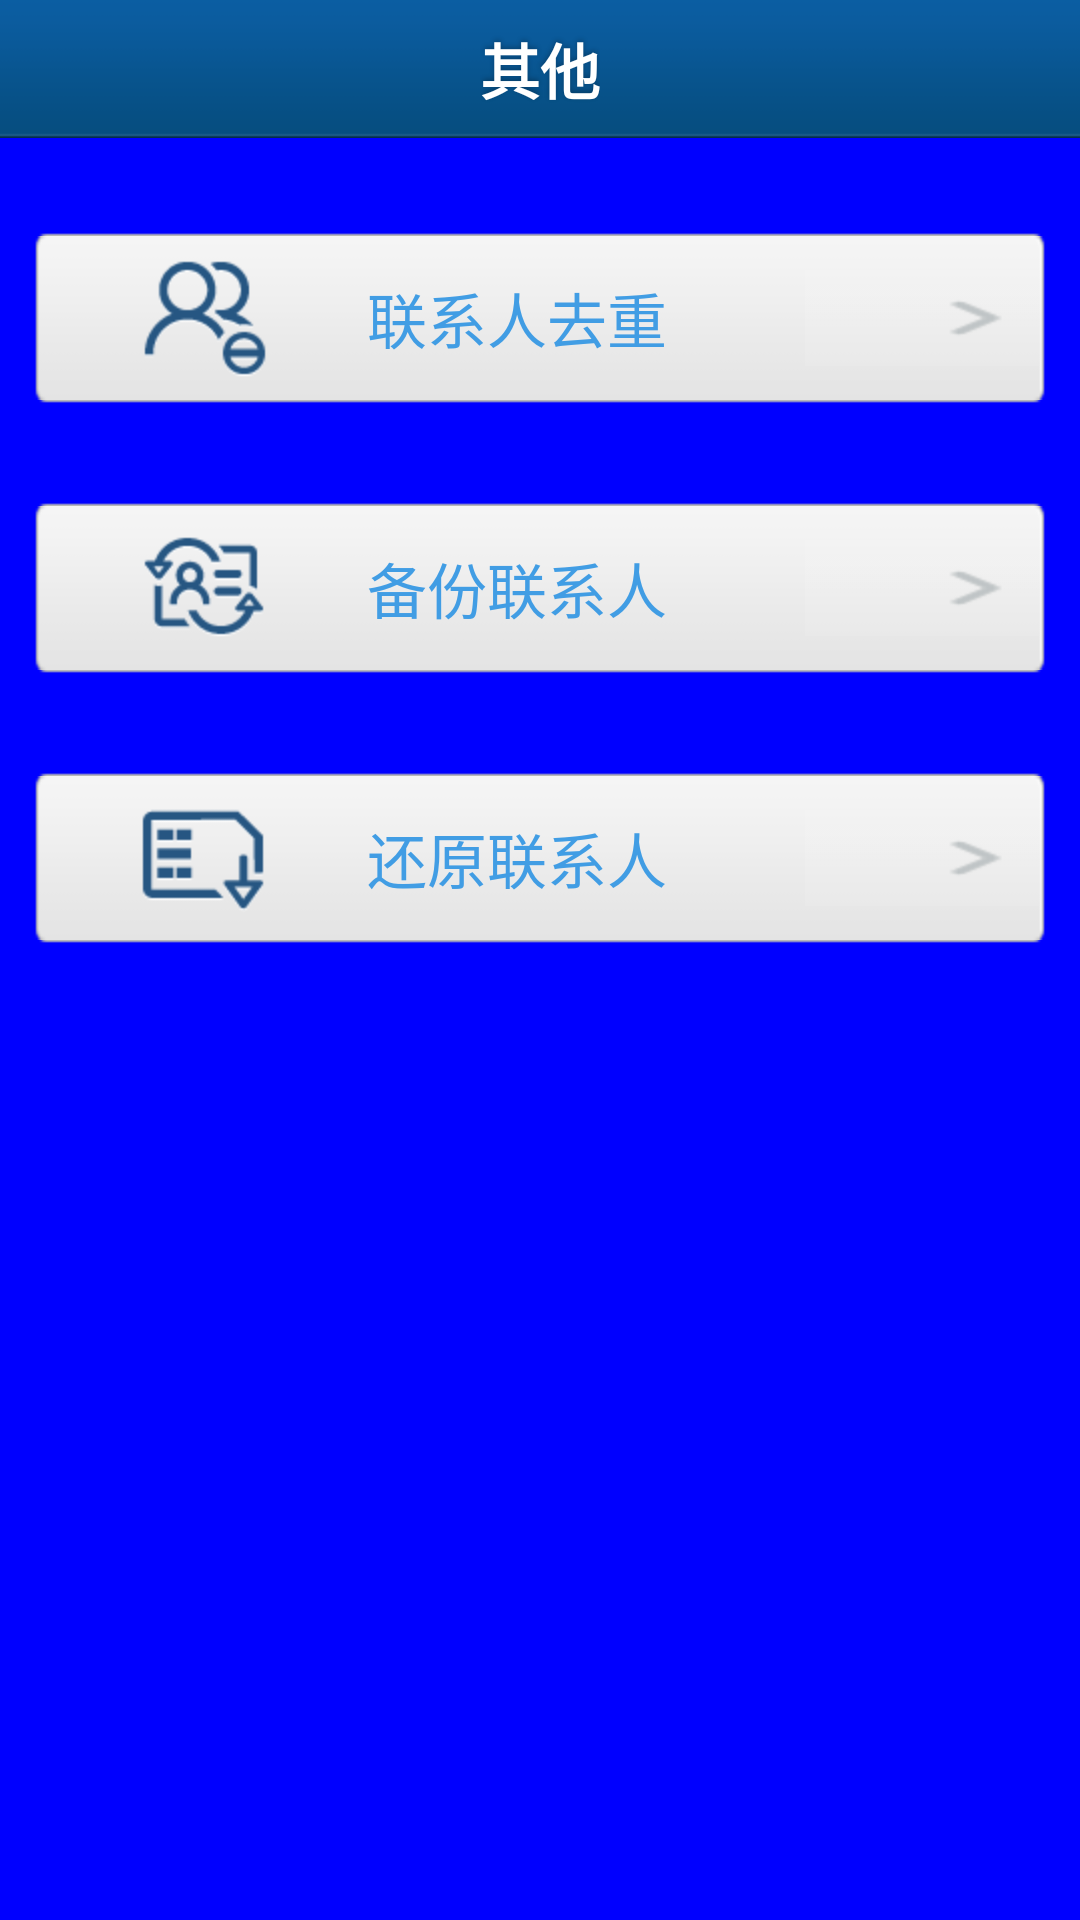

Screen size 1080x1920. Icon name, then its center in pixels as point (x, y):
merge contact: point (202, 318)
